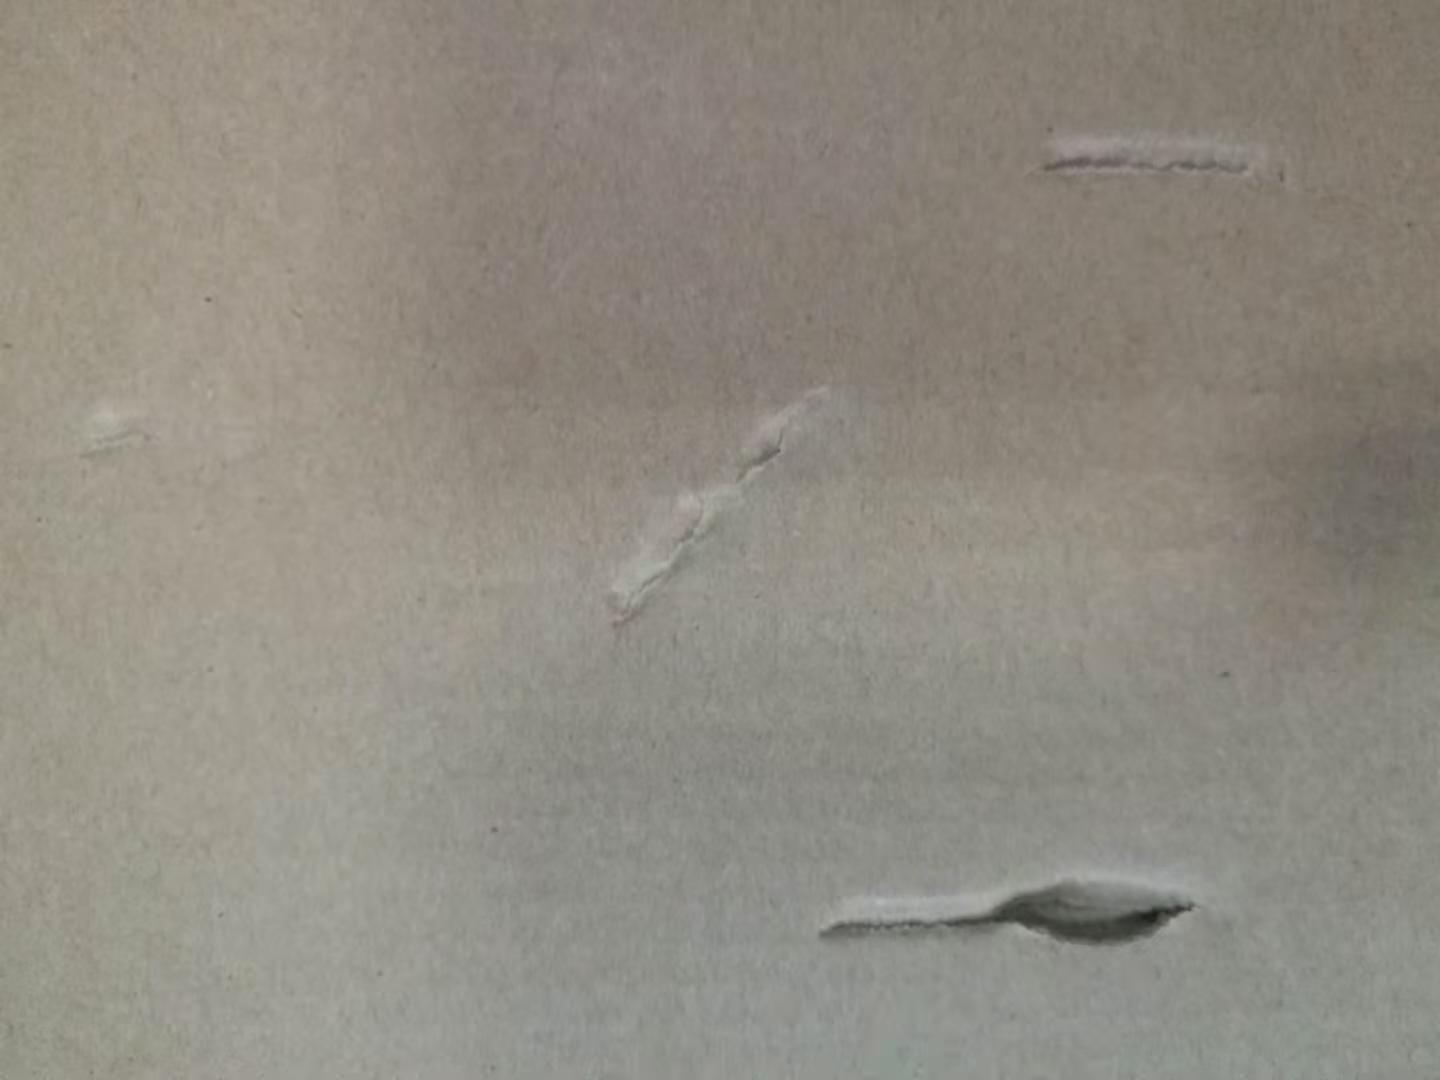defect: (550, 357, 881, 664), (802, 847, 1256, 982), (1010, 100, 1337, 220), (67, 380, 172, 478)
